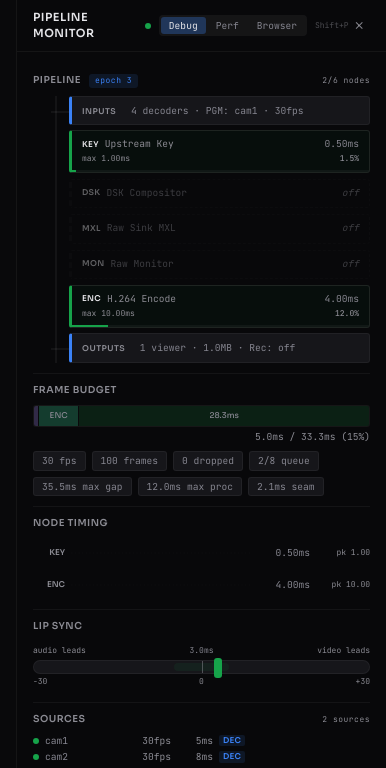
it: StatsPanel › shows loading state in perf view before data arrives
This screenshot has width=386, height=768.
Switch to perf - data won't arrive
Click the button with class "toggle-btn" showing "Perf".
click(227, 26)  # box [208,17,247,34]
Wait 50 ms
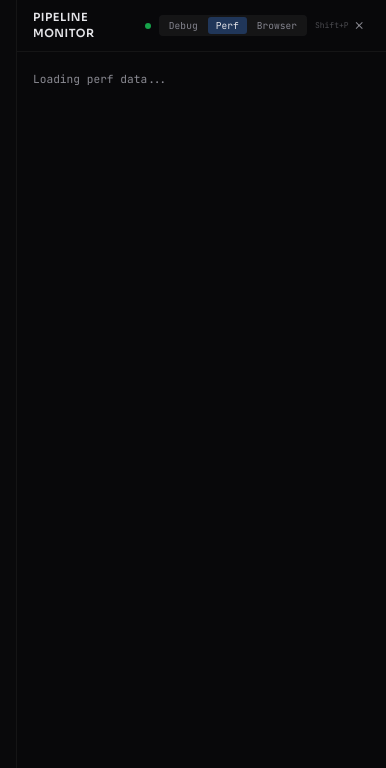
Expected: the text with class "loading" reads "Loading perf data...", [33,72,167,86]
